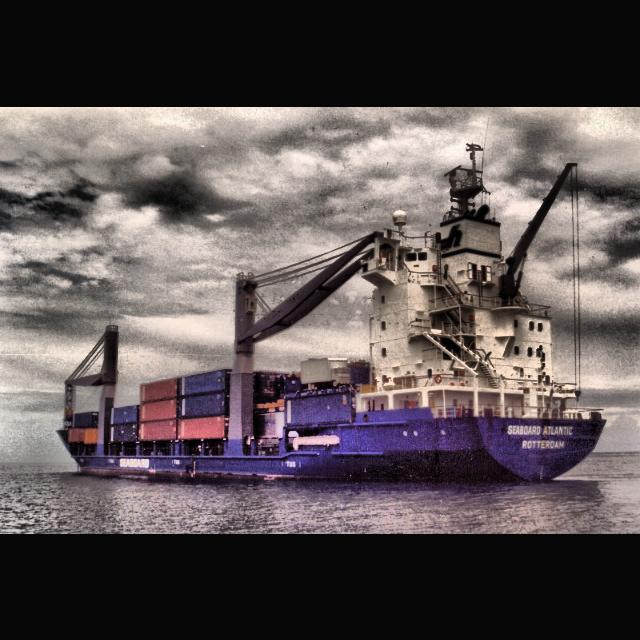container: (54, 140, 608, 488)
